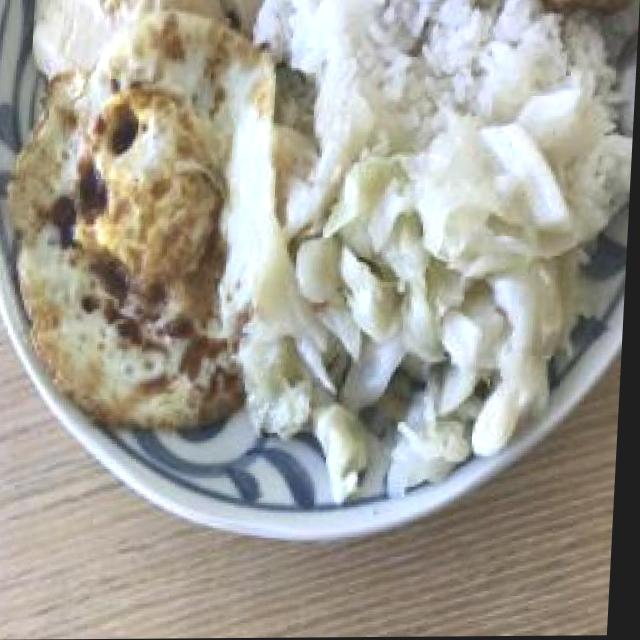chinese_cabbage: (274, 117, 575, 438)
fried_eggs: (12, 13, 282, 433)
rice: (302, 0, 615, 118)
